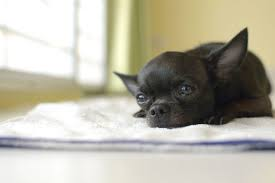chihuahua: (97, 14, 275, 139)
